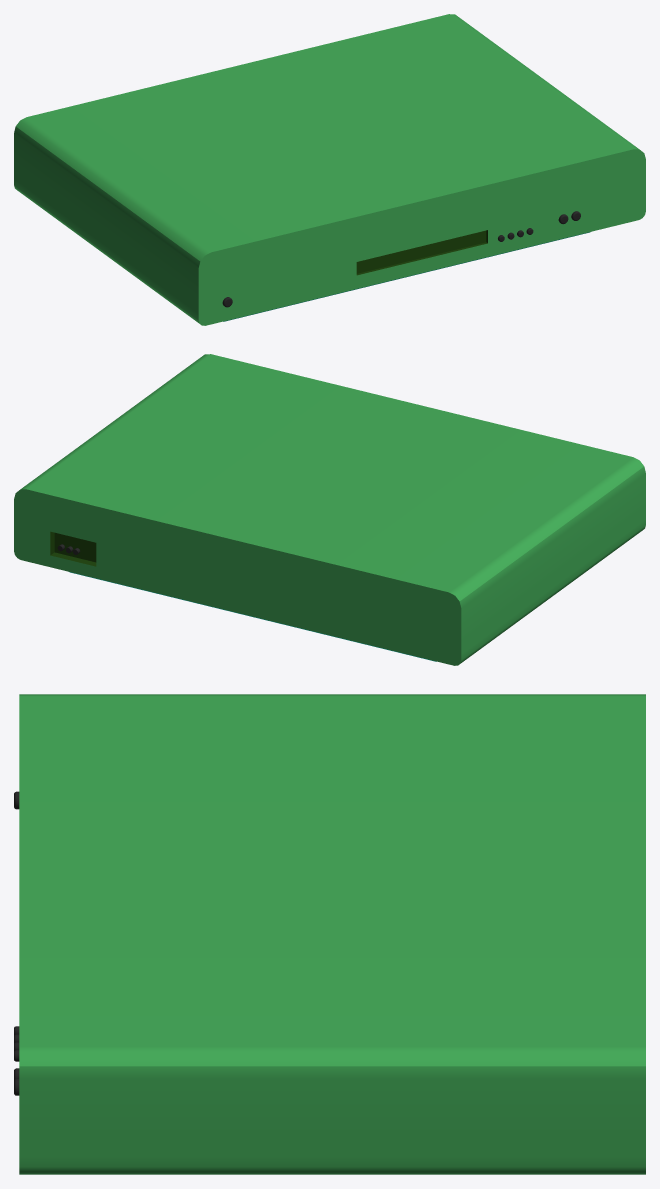
The model's file is Reproductor.fbx.
3 renders of one model, top to bottom at view 1: azimuth 30°, elevation 25°; view 2: azimuth 150°, elevation 25°; view 3: azimuth 270°, elevation 25°, orthographic. The views are drawn at different scales.
Parts seen in each view (by area): view 1: pCylinder16; view 2: pCylinder16; view 3: pCylinder16.
Part boxes in pixels (box(x1,y1,x2,y2)): pCylinder16: box(14, 14, 645, 325); pCylinder16: box(14, 354, 645, 665); pCylinder16: box(14, 694, 645, 1174).
Bounding box in the file's own units: 40 × 7.5 × 28.84.
